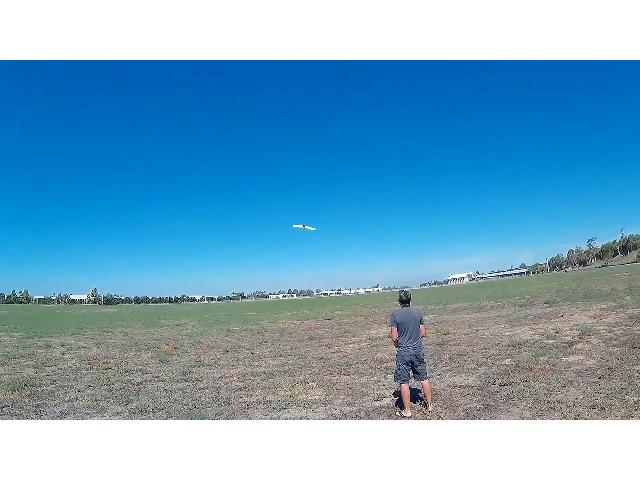Anti-Drone: (292, 226, 316, 230)
